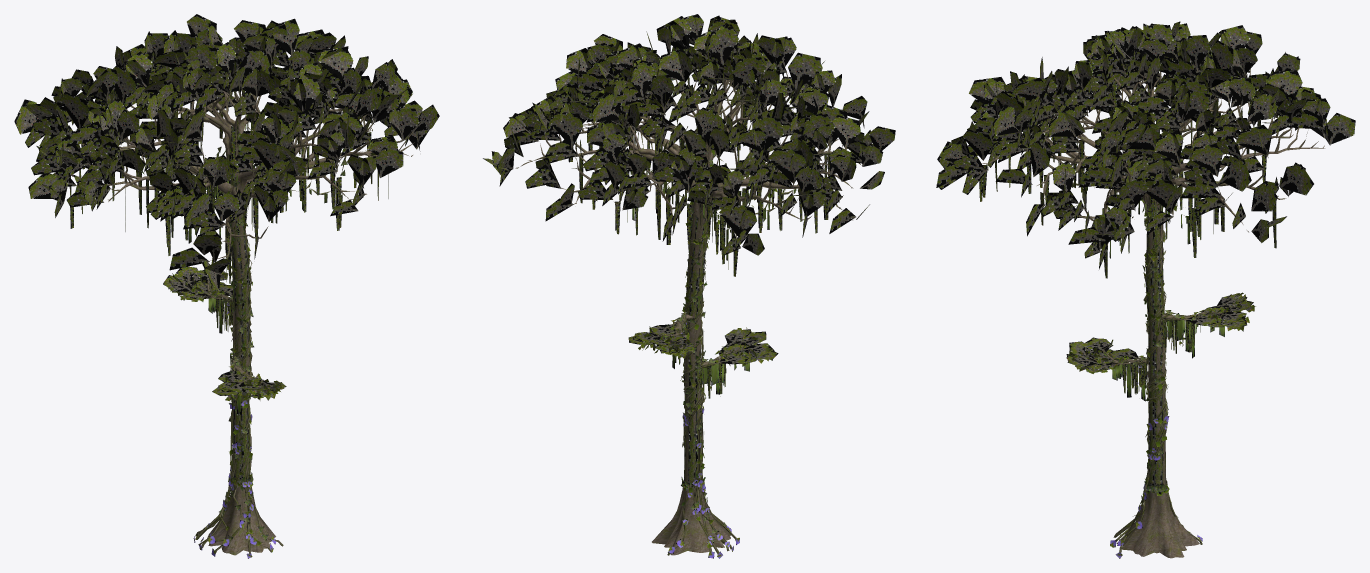
File: vineswingingtree03.glb
3 renders of one model, left to right at view 1: azimuth 30°, elevation 25°; view 2: azimuth 150°, elevation 25°; view 3: azimuth 270°, elevation 25°, orthographic. The views are drawn at different scales.
Visible parts, largest first — view 1: LOD0, kapok_branch_a (2), kapok_branch_a; view 2: LOD0, kapok_branch_a, kapok_branch_a (2); view 3: LOD0, kapok_branch_a (2), kapok_branch_a.
Part boxes in pixels (left/top/right/bottom): LOD0: left=14, top=14, right=439, bottom=558; kapok_branch_a (2): left=163, top=266, right=232, bottom=333; kapok_branch_a: left=212, top=352, right=286, bottom=414; LOD0: left=483, top=14, right=895, bottom=558; kapok_branch_a: left=693, top=327, right=778, bottom=398; kapok_branch_a (2): left=628, top=310, right=694, bottom=368; LOD0: left=936, top=21, right=1355, bottom=558; kapok_branch_a (2): left=1161, top=292, right=1255, bottom=358; kapok_branch_a: left=1066, top=337, right=1147, bottom=401.
Size of the model in its own units: 33.72 by 43.64 by 32.64.
Materials: 2 (2 with a texture image).
